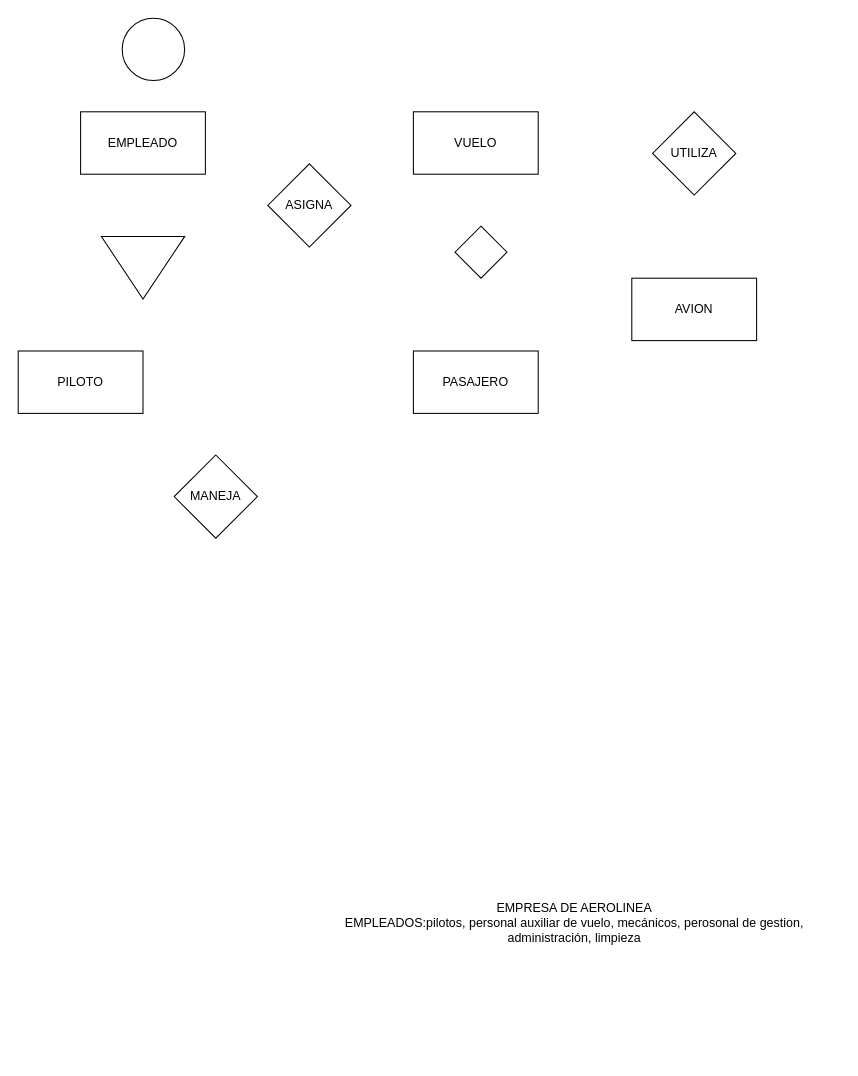
Some shapes in this 858 by 1076 pixel diagram are drawn without their labels. The shapes that lost their labels are listed below. From the top down, each one's centre as x and y in pixels, then its label:
[153,49]: Nombre
[142,267]: IS A
[480,251]: VA
